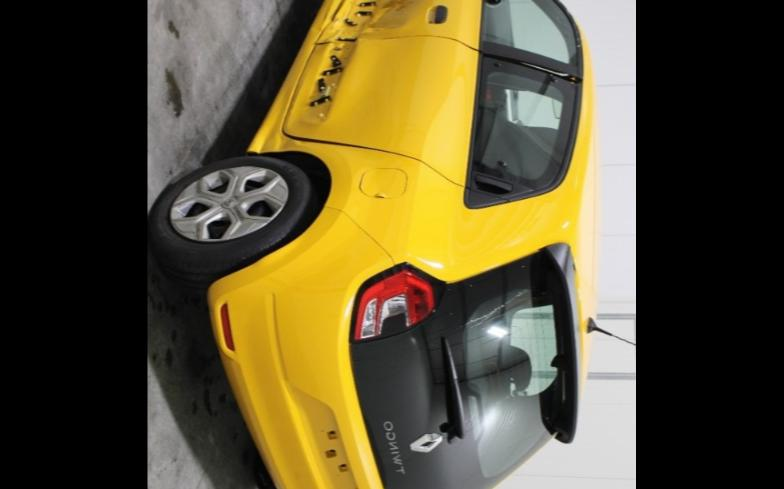Broken part: (280, 124, 414, 158), (482, 50, 584, 86), (314, 38, 360, 46)
Dent: (324, 0, 435, 50), (246, 88, 292, 152), (280, 134, 298, 146), (312, 22, 322, 32)
Missing part: (304, 0, 374, 124)
Paint chip: (380, 0, 413, 14)
